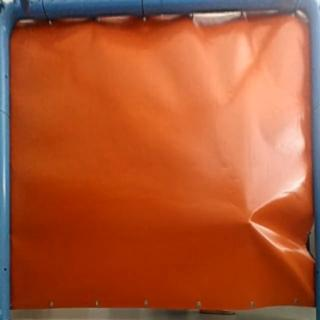Hit-hRxx: (241, 216, 256, 229)
